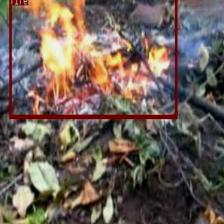fire: (9, 0, 176, 118)
